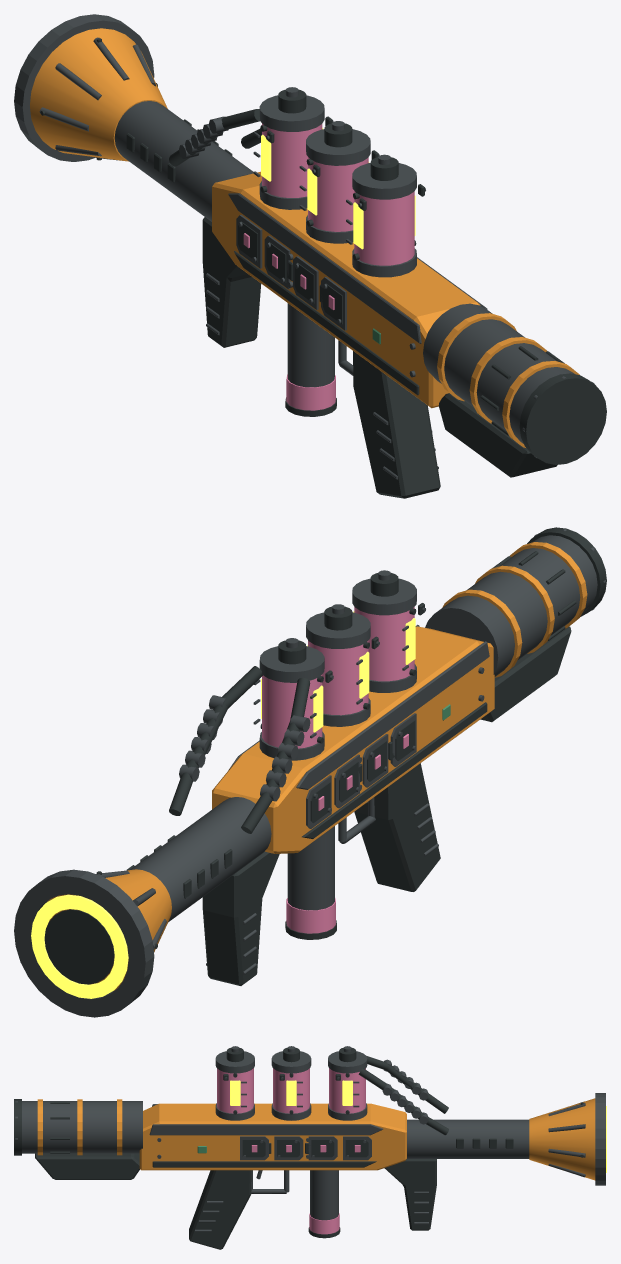
The model's file is sticky_1.glb.
3 views of the same model, one above another, from view 1: azimuth 30°, elevation 25°; view 2: azimuth 150°, elevation 25°; view 3: azimuth 270°, elevation 25° (orthographic). The views are drawn at different scales.
Parts seen in each view (by area): view 1: Weapon_sticky_v1; view 2: Weapon_sticky_v1; view 3: Weapon_sticky_v1.
Boxes of the visible parts, bbox=[...] form: Weapon_sticky_v1: bbox=[14, 14, 606, 498]; Weapon_sticky_v1: bbox=[14, 527, 606, 1017]; Weapon_sticky_v1: bbox=[14, 1046, 606, 1249].
Size of the model in its own units: 0.14 by 0.3291 by 0.8975.
